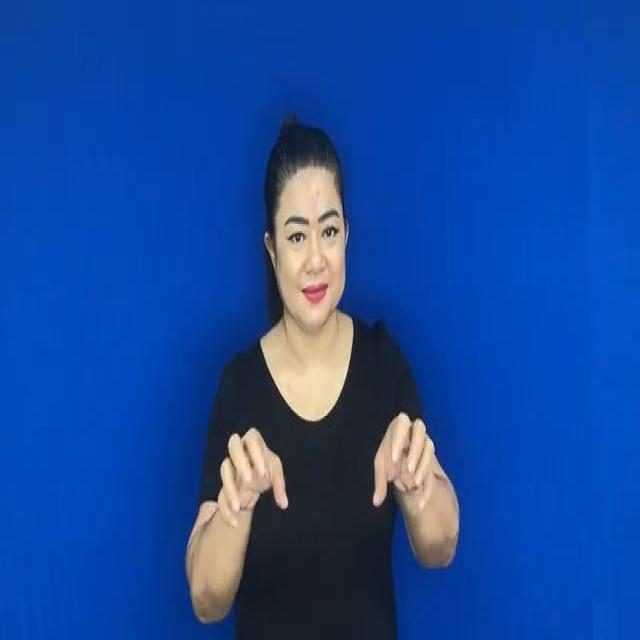egg: (205, 408, 443, 531)
